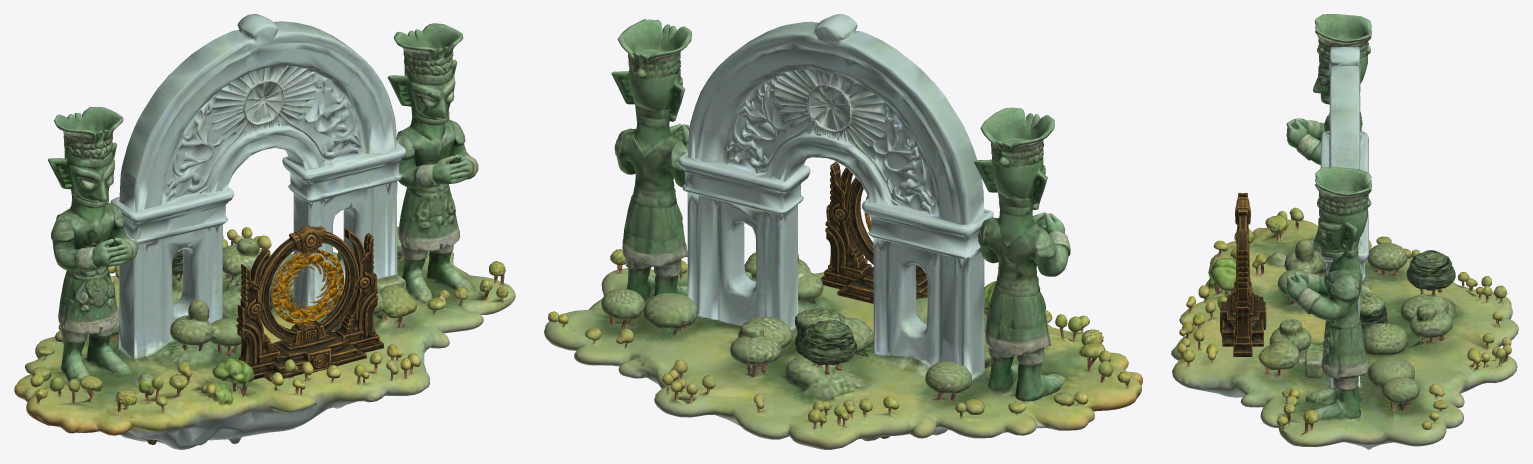
Rendered from 15-civilization-gate.glb.
3 views of the same model, side by side, from view 1: azimuth 30°, elevation 25°; view 2: azimuth 150°, elevation 25°; view 3: azimuth 270°, elevation 25° (orthographic). The views are drawn at different scales.
Visible parts, largest first — view 1: tripo_node_bbcc85b6-3ad8-422b-b677-e2766067ee58, Meshy_AI_Aureate_Vortex_Gate_0817200025_texture, Meshy_AI_Golden_Vortex_Emblem_0817192120_texture; view 2: tripo_node_bbcc85b6-3ad8-422b-b677-e2766067ee58, Meshy_AI_Aureate_Vortex_Gate_0817200025_texture; view 3: tripo_node_bbcc85b6-3ad8-422b-b677-e2766067ee58, Meshy_AI_Aureate_Vortex_Gate_0817200025_texture.
Part boxes in pixels (x1,y1,x2,y2): tripo_node_bbcc85b6-3ad8-422b-b677-e2766067ee58: (14, 14, 515, 449); Meshy_AI_Aureate_Vortex_Gate_0817200025_texture: (236, 226, 383, 381); Meshy_AI_Golden_Vortex_Emblem_0817192120_texture: (270, 249, 344, 324); tripo_node_bbcc85b6-3ad8-422b-b677-e2766067ee58: (544, 14, 1142, 449); Meshy_AI_Aureate_Vortex_Gate_0817200025_texture: (820, 161, 927, 303); tripo_node_bbcc85b6-3ad8-422b-b677-e2766067ee58: (1171, 14, 1518, 449); Meshy_AI_Aureate_Vortex_Gate_0817200025_texture: (1219, 193, 1266, 356).
Bounding box in the file's own units: 6.5 × 4.93 × 4.33.
Materials: 3 (3 with a texture image).
